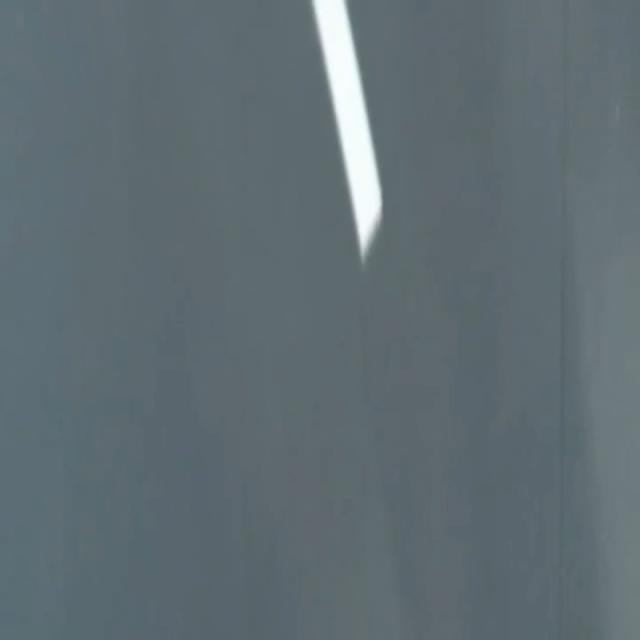center: (311, 0, 381, 264)
